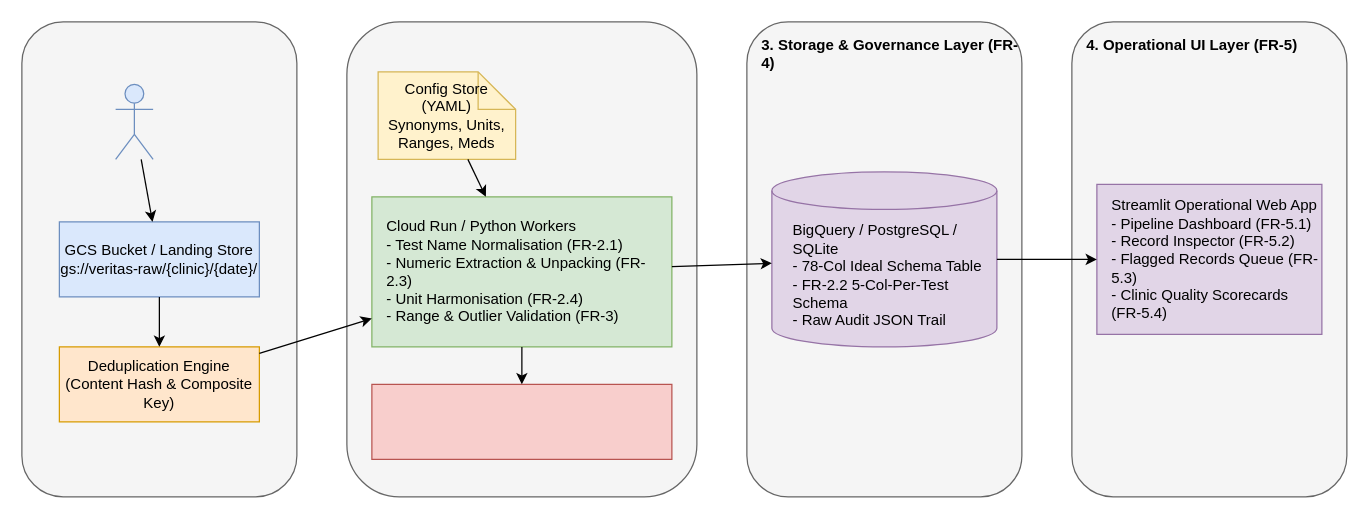
Image size: 1369x519. Some labels were removed from this diagram. Here are the shapes that lost their labels. From the top down, the box of each, then its label:
(114, 83, 153, 159): 500+ Clinics & Labs (JSON Reports)
(21, 21, 297, 497): 1. Ingestion & Landing Layer (FR-1)
(346, 21, 697, 497): 2. Processing & Standardisation Layer (FR-2 & FR-3)
(371, 383, 672, 459): Dead-Letter Queue (DLQ) (Malformed JSON / Errors)
